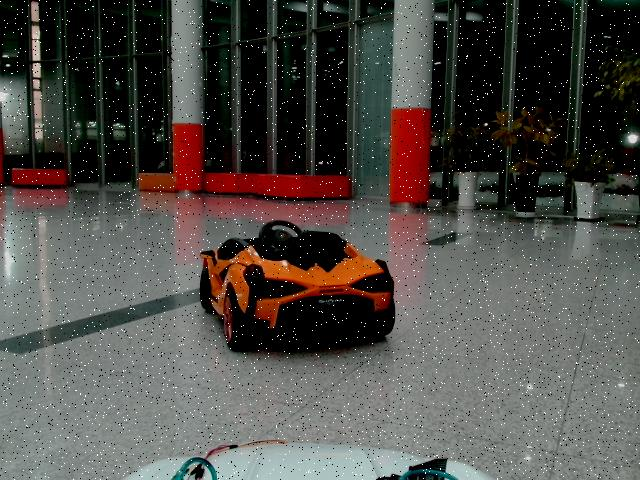car: (198, 220, 396, 352)
